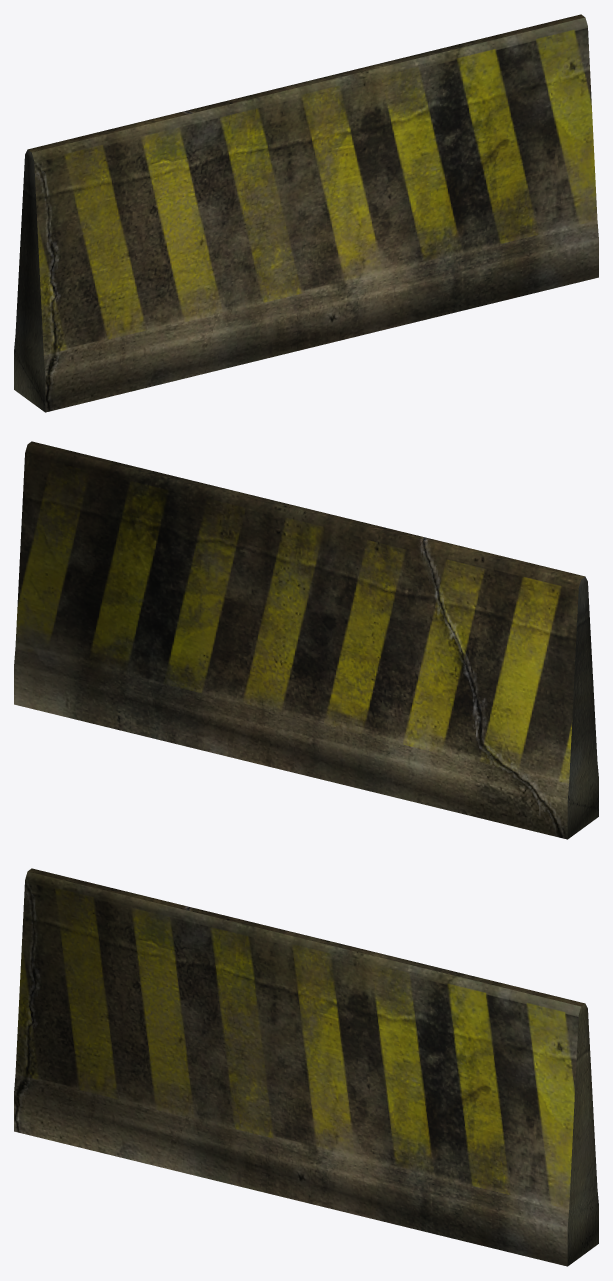
File: roadblocker.fbx
3 views of the same model, one above another, from view 1: azimuth 30°, elevation 25°; view 2: azimuth 150°, elevation 25°; view 3: azimuth 330°, elevation 25° (orthographic).
Visible parts, largest first — view 1: RoadBlocker; view 2: RoadBlocker; view 3: RoadBlocker.
Part boxes in pixels (<box>): RoadBlocker: <box>14,14,598,412</box>; RoadBlocker: <box>14,441,598,839</box>; RoadBlocker: <box>14,868,598,1266</box>.
Bounding box in the file's own units: 1080 × 466 × 106.
1 material, 1 textured.
